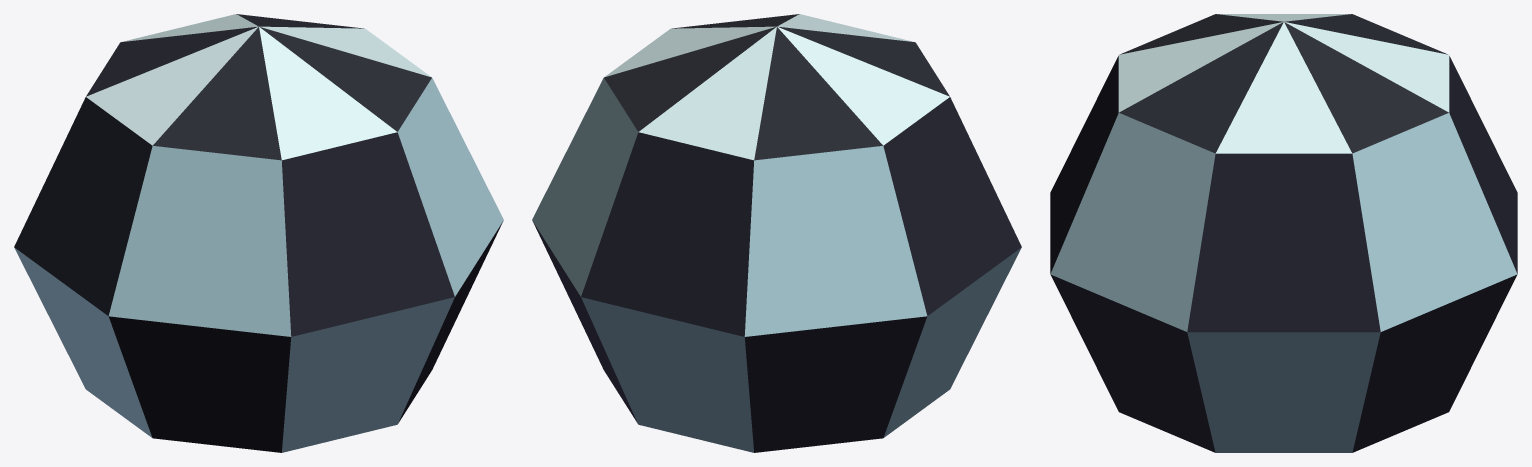
File: Pelota.fbx
The picture shows the model from 3 angles, left to right: view 1: azimuth 30°, elevation 25°; view 2: azimuth 150°, elevation 25°; view 3: azimuth 270°, elevation 25°; orthographic projection. The views are drawn at different scales.
Visible parts, largest first — view 1: Pelota; view 2: Pelota; view 3: Pelota.
Part boxes in pixels (bbox=[...]): Pelota: bbox=[14, 14, 503, 452]; Pelota: bbox=[532, 14, 1021, 452]; Pelota: bbox=[1050, 14, 1517, 452].
Size of the model in its own units: 31.25 by 31.25 by 31.25.
Materials: 1 (1 with a texture image).
